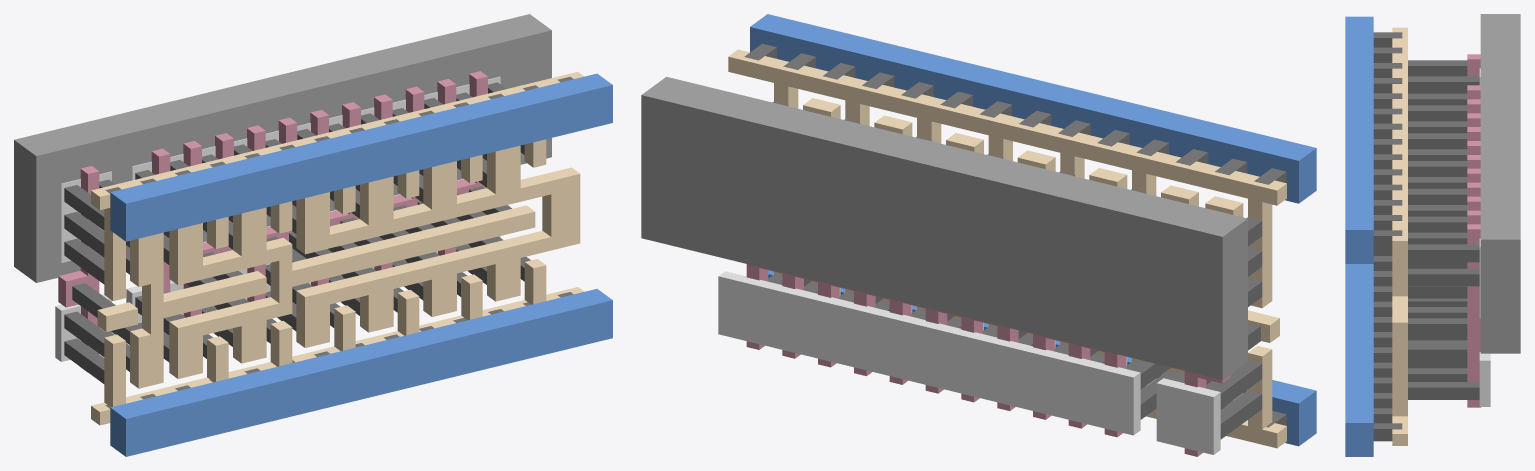
File: sky130_fd_sc_hd__bufinv_8.gds.gltf
3 views of the same model, side by side, from view 1: azimuth 30°, elevation 25°; view 2: azimuth 150°, elevation 25°; view 3: azimuth 270°, elevation 25° (orthographic). The views are drawn at different scales.
Parts seen in each view (by area): view 1: sky130_fd_sc_hd__bufinv_8_li1, sky130_fd_sc_hd__bufinv_8_met1, sky130_fd_sc_hd__bufinv_8_nwell, sky130_fd_sc_hd__bufinv_8_licon, sky130_fd_sc_hd__bufinv_8_poly, sky130_fd_sc_hd__bufinv_8_diff, sky130_fd_sc_hd__bufinv_8_mcon; view 2: sky130_fd_sc_hd__bufinv_8_nwell, sky130_fd_sc_hd__bufinv_8_diff, sky130_fd_sc_hd__bufinv_8_li1, sky130_fd_sc_hd__bufinv_8_met1, sky130_fd_sc_hd__bufinv_8_licon, sky130_fd_sc_hd__bufinv_8_poly, sky130_fd_sc_hd__bufinv_8_mcon; view 3: sky130_fd_sc_hd__bufinv_8_licon, sky130_fd_sc_hd__bufinv_8_nwell, sky130_fd_sc_hd__bufinv_8_met1, sky130_fd_sc_hd__bufinv_8_mcon, sky130_fd_sc_hd__bufinv_8_li1, sky130_fd_sc_hd__bufinv_8_poly, sky130_fd_sc_hd__bufinv_8_diff.
Boxes of the visible parts, left/top/right/bottom form: sky130_fd_sc_hd__bufinv_8_li1: left=91, top=71, right=584, bottom=425; sky130_fd_sc_hd__bufinv_8_met1: left=110, top=73, right=612, bottom=456; sky130_fd_sc_hd__bufinv_8_nwell: left=14, top=14, right=551, bottom=282; sky130_fd_sc_hd__bufinv_8_licon: left=64, top=82, right=530, bottom=383; sky130_fd_sc_hd__bufinv_8_poly: left=58, top=71, right=487, bottom=372; sky130_fd_sc_hd__bufinv_8_diff: left=55, top=76, right=500, bottom=361; sky130_fd_sc_hd__bufinv_8_mcon: left=105, top=76, right=573, bottom=408; sky130_fd_sc_hd__bufinv_8_nwell: left=641, top=76, right=1247, bottom=379; sky130_fd_sc_hd__bufinv_8_diff: left=718, top=271, right=1220, bottom=454; sky130_fd_sc_hd__bufinv_8_li1: left=728, top=49, right=1286, bottom=448; sky130_fd_sc_hd__bufinv_8_met1: left=750, top=14, right=1316, bottom=446; sky130_fd_sc_hd__bufinv_8_licon: left=768, top=101, right=1262, bottom=439; sky130_fd_sc_hd__bufinv_8_poly: left=746, top=264, right=1230, bottom=456; sky130_fd_sc_hd__bufinv_8_mcon: left=744, top=43, right=1286, bottom=427; sky130_fd_sc_hd__bufinv_8_licon: left=1408, top=60, right=1479, bottom=399; sky130_fd_sc_hd__bufinv_8_nwell: left=1480, top=14, right=1520, bottom=353; sky130_fd_sc_hd__bufinv_8_met1: left=1345, top=16, right=1373, bottom=456; sky130_fd_sc_hd__bufinv_8_mcon: left=1373, top=32, right=1402, bottom=441; sky130_fd_sc_hd__bufinv_8_li1: left=1392, top=27, right=1407, bottom=445; sky130_fd_sc_hd__bufinv_8_poly: left=1467, top=54, right=1481, bottom=407; sky130_fd_sc_hd__bufinv_8_diff: left=1479, top=68, right=1490, bottom=406.
Bounding box in the file's own units: 6.82 × 3.2 × 2.24.
